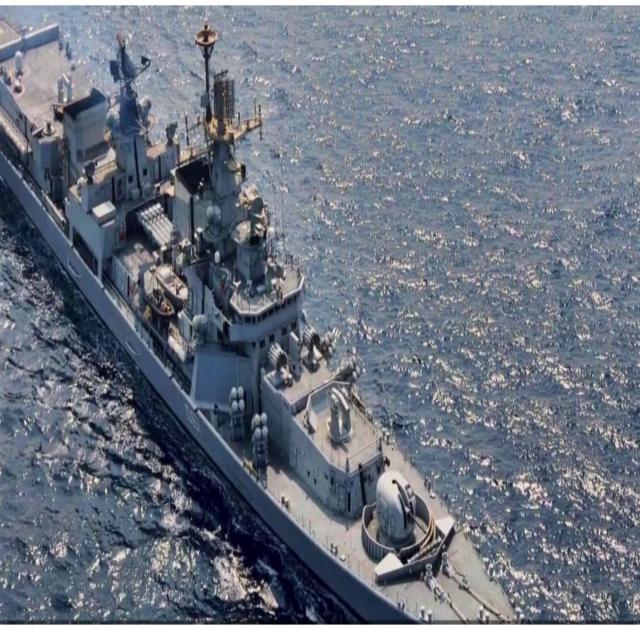OCR: (182, 398, 208, 446)
